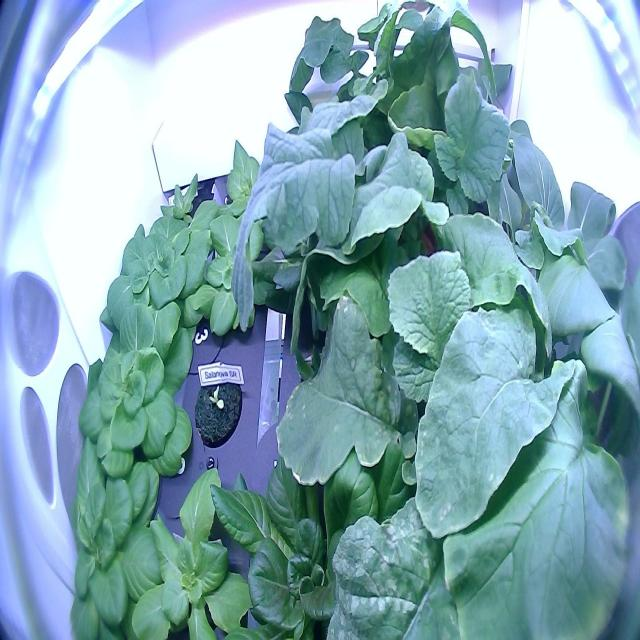germination: (191, 357, 244, 453)
young: (205, 373, 445, 640), (73, 293, 198, 493), (128, 457, 260, 639), (64, 433, 180, 640), (93, 199, 216, 358), (184, 194, 286, 342), (210, 133, 290, 240), (156, 166, 206, 229)
